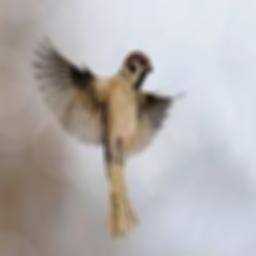Sparrow: (33, 32, 187, 239)
